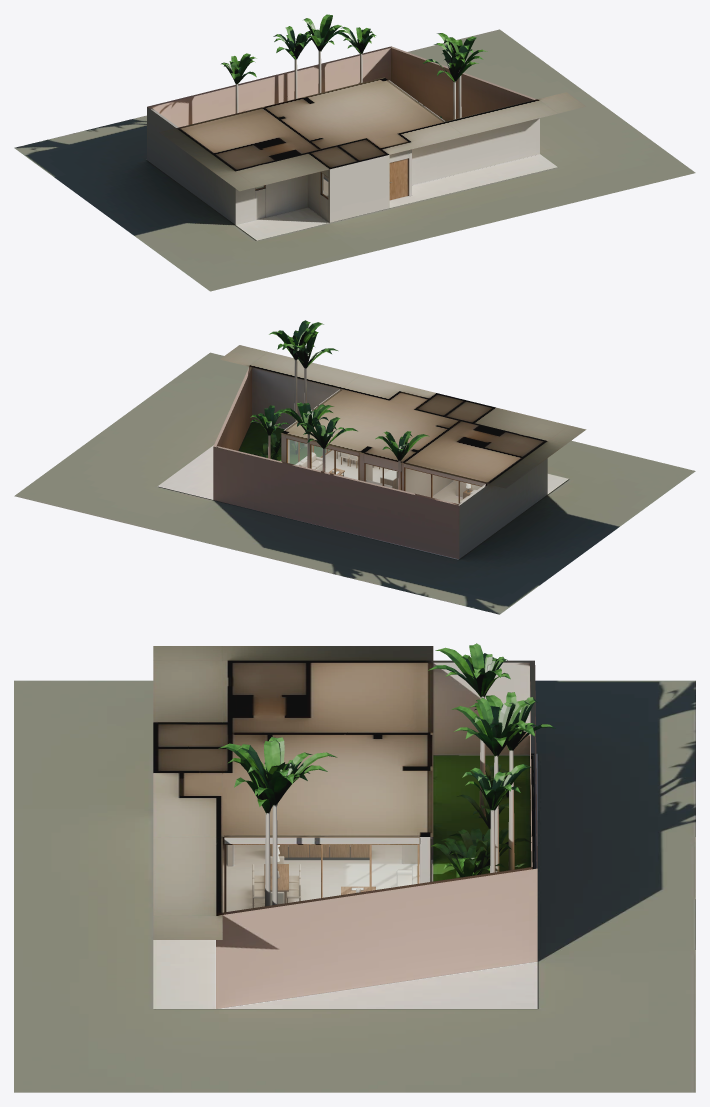
3 views of the same model, one above another, from view 1: azimuth 30°, elevation 25°; view 2: azimuth 150°, elevation 25°; view 3: azimuth 270°, elevation 25° (orthographic). The views are drawn at different scales.
Parts seen in each view (by area): view 1: D4_piso, D4_muros, D4_muebles, D4_carp; view 2: D4_piso, D4_muros, D4_muebles, D4_vidrio, D4_carp; view 3: D4_piso, D4_muros, D4_muebles, D4_vidrio, D4_carp.
Boxes of the visible parts, x1,y1,x2,y2 form: D4_piso: (14,29,695,291); D4_muros: (147,46,585,224); D4_muebles: (221,14,487,196); D4_carp: (255,158,408,200); D4_piso: (14,352,695,614); D4_muros: (213,345,586,559); D4_muebles: (250,320,481,503); D4_vidrio: (288,440,480,503); D4_carp: (286,438,481,503); D4_piso: (14,680,695,1092); D4_muros: (153,646,537,1008); D4_muebles: (218,643,555,906); D4_vidrio: (226,845,417,911); D4_carp: (224,839,430,912).
Bounding box in the file's own units: 28 × 6.6 × 19.59.
Materials: 5 (4 with a texture image).
